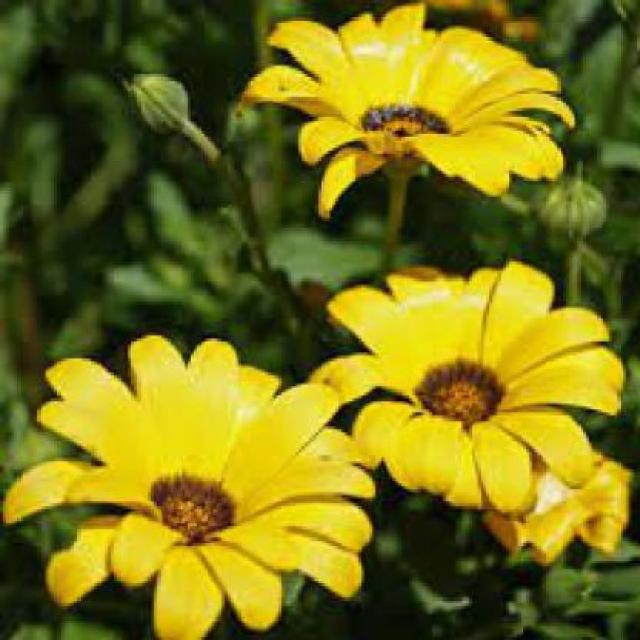Flower: (3, 335, 375, 634), (302, 262, 623, 513), (236, 3, 575, 220), (148, 472, 237, 538), (419, 361, 503, 421), (361, 99, 450, 152)
